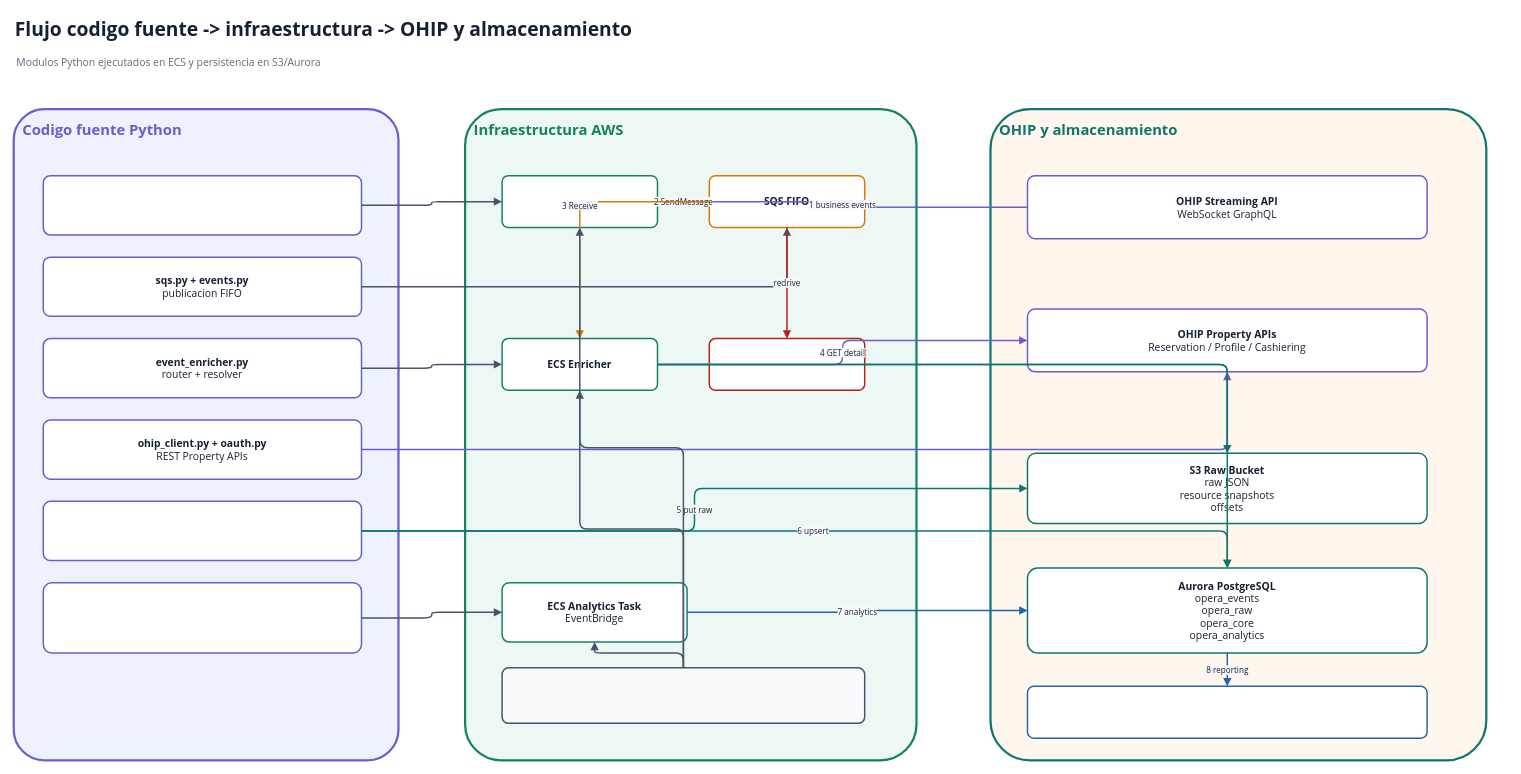
This 1521x774 diagram has some shape labels left out. The shapes that lost their labels are listed below. From the top down, each one's centre as x and y in pixels, then its label:
point 202,205: listener.py graphql.py oauth.py offsets.py
point 579,201: ECS Listener
point 786,364: SQS DLQ
point 202,530: raw_store.py + repositories.py S3 + PostgreSQL
point 202,617: analytics_snapshot.py snapshots pickups last status
point 683,695: Secrets / IAM / KMS CloudWatch / ECR
point 1226,712: BI / SQL dashboards y analistas
